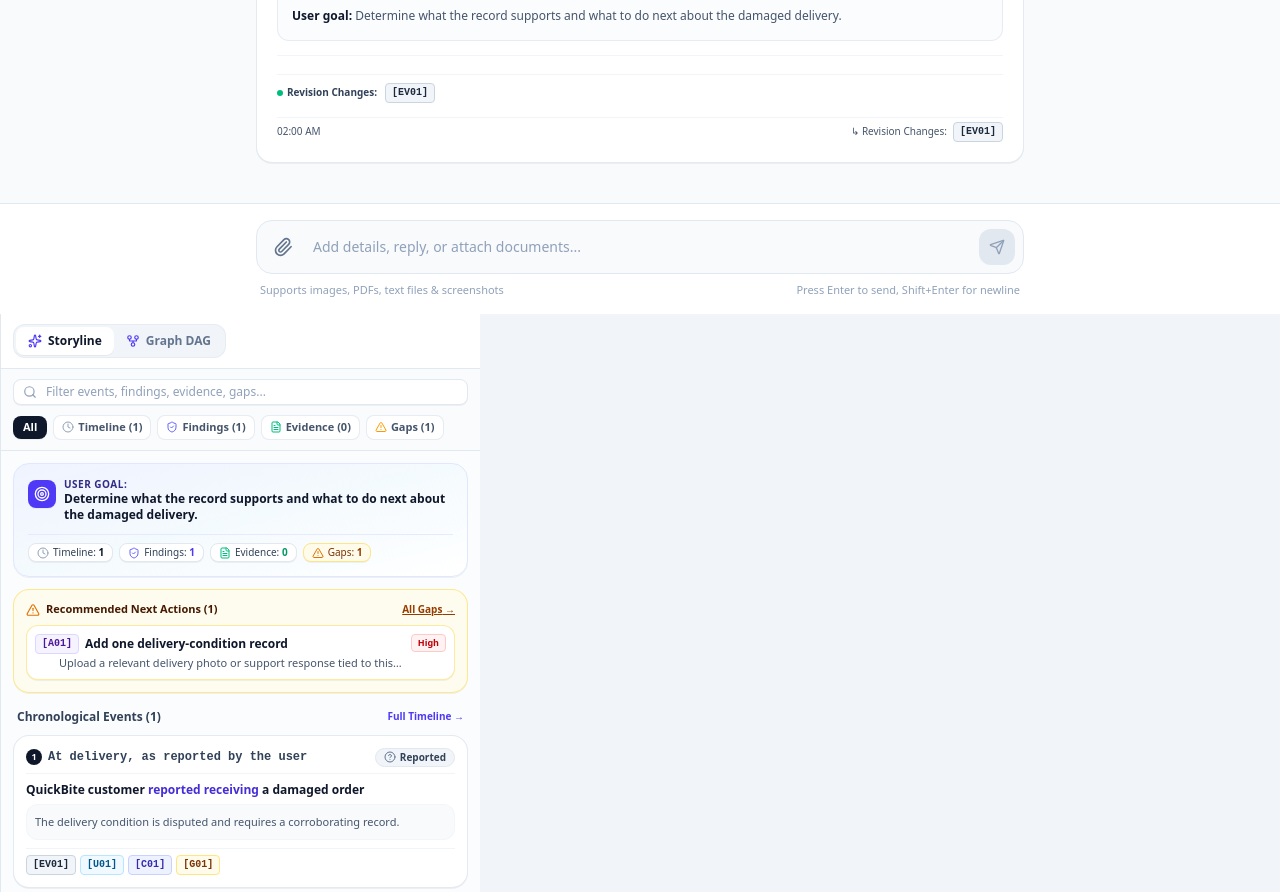
Test: case reference interactions › routes a Statement key back to the original expanded chat submission
This screenshot has width=1280, height=892.
(page scrolled)
Click the button "[U01]": (102, 865) [80, 855, 124, 875]
(page scrolled)
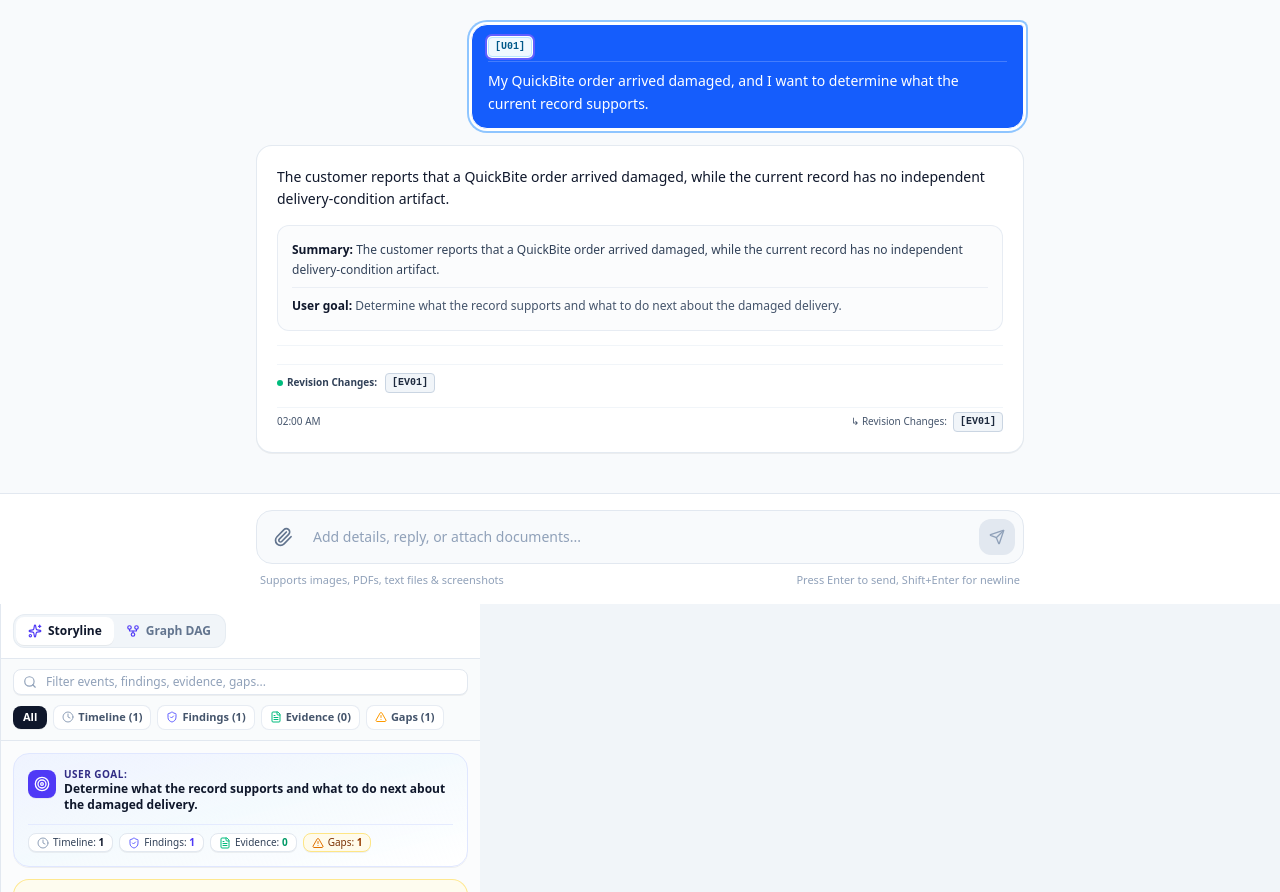
Expected: the element with class "ring-blue-300" is shown, [471, 24, 1024, 128]
